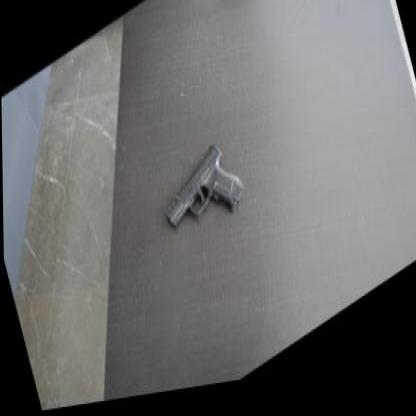pistol: (154, 135, 245, 257)
